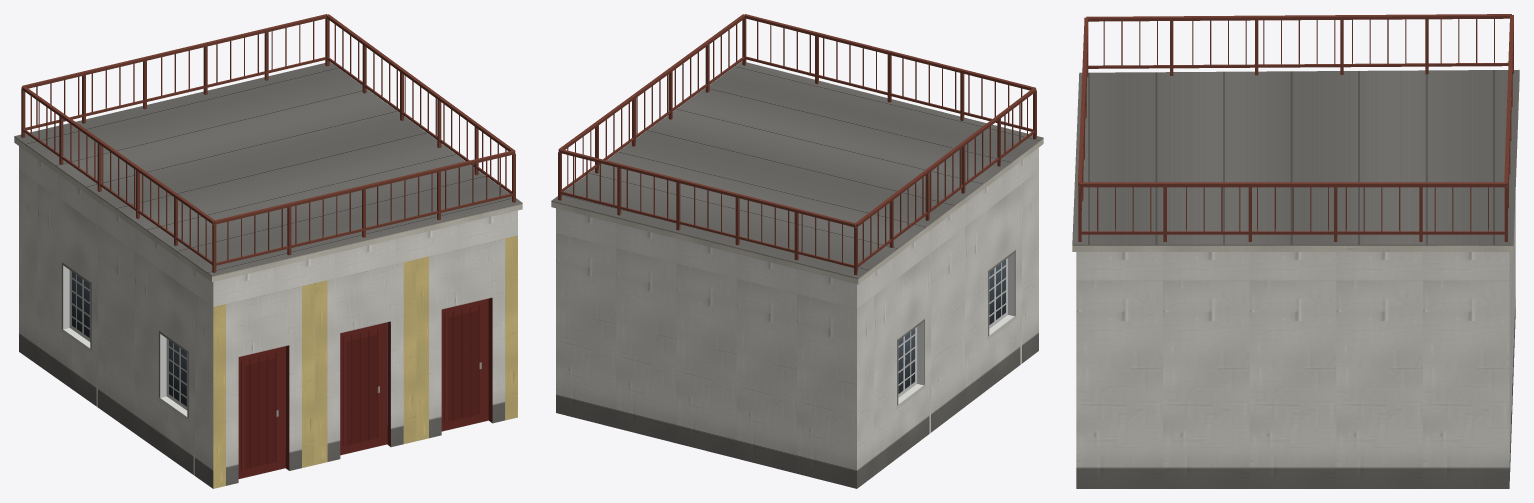
The model's file is SM_Molo_Edificio_A4A5_LOD1.fbx.
3 renders of one model, left to right at view 1: azimuth 30°, elevation 25°; view 2: azimuth 150°, elevation 25°; view 3: azimuth 270°, elevation 25°, orthographic. The views are drawn at different scales.
Parts seen in each view (by area): view 1: SM_Molo_Edificio_A4A5_LOD1; view 2: SM_Molo_Edificio_A4A5_LOD1; view 3: SM_Molo_Edificio_A4A5_LOD1.
Boxes of the visible parts, bbox=[...] form: SM_Molo_Edificio_A4A5_LOD1: bbox=[14, 14, 522, 488]; SM_Molo_Edificio_A4A5_LOD1: bbox=[551, 14, 1043, 488]; SM_Molo_Edificio_A4A5_LOD1: bbox=[1072, 14, 1519, 488].
Size of the model in its own units: 612 by 662 by 497.
1 material, 1 textured.
